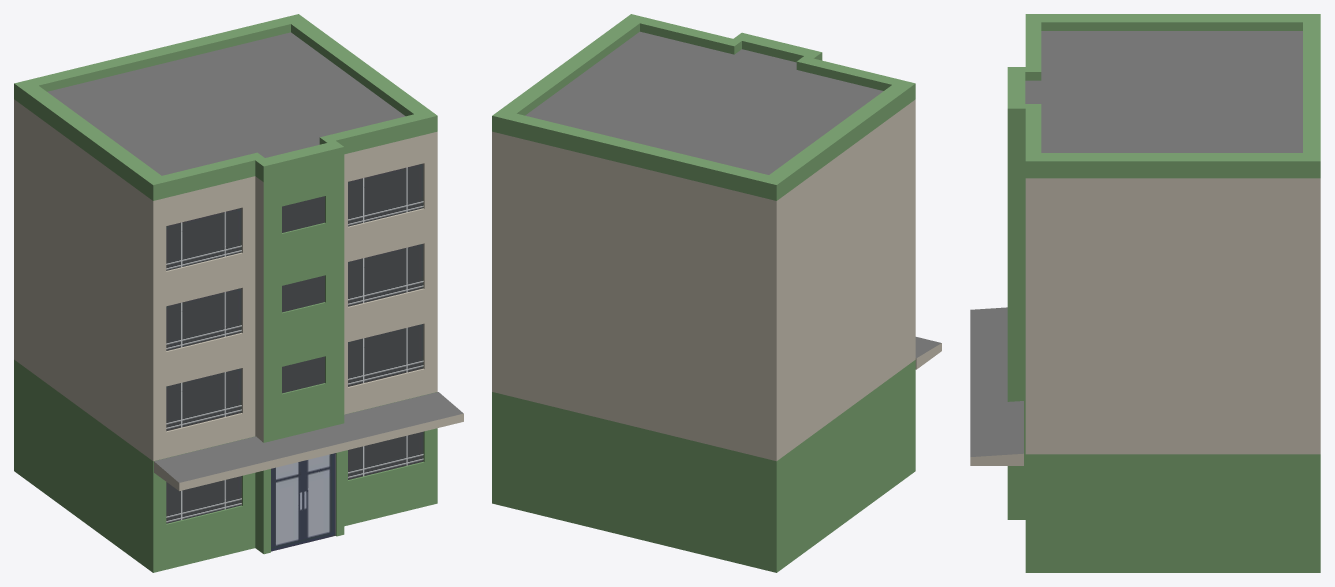
File: Building Sky_small_color03.glb
3 views of the same model, side by side, from view 1: azimuth 30°, elevation 25°; view 2: azimuth 150°, elevation 25°; view 3: azimuth 270°, elevation 25° (orthographic). The views are drawn at different scales.
Parts seen in each view (by area): view 1: Building Sky_small_color03; view 2: Building Sky_small_color03; view 3: Building Sky_small_color03.
Boxes of the visible parts, <box> form: Building Sky_small_color03: <box>14,14,463,572</box>; Building Sky_small_color03: <box>492,14,941,572</box>; Building Sky_small_color03: <box>970,14,1320,572</box>.
Size of the model in its own units: 13 by 16.93 by 13.07.
Materials: 1 (1 with a texture image).
